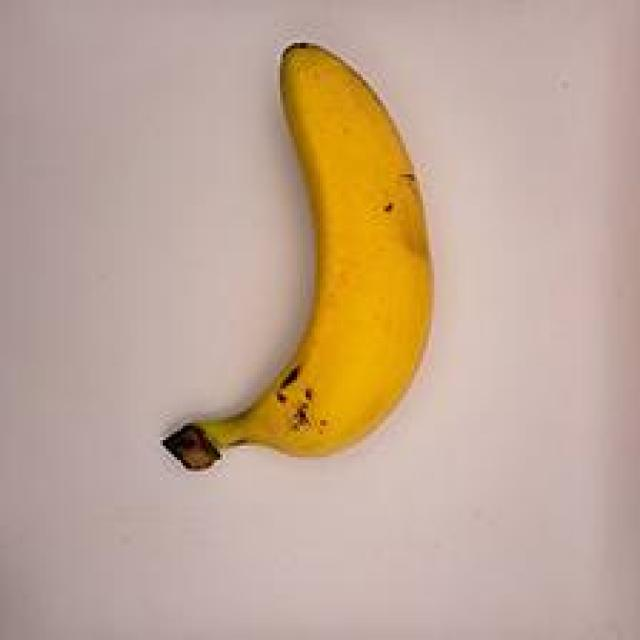ripe: (138, 26, 473, 487)
